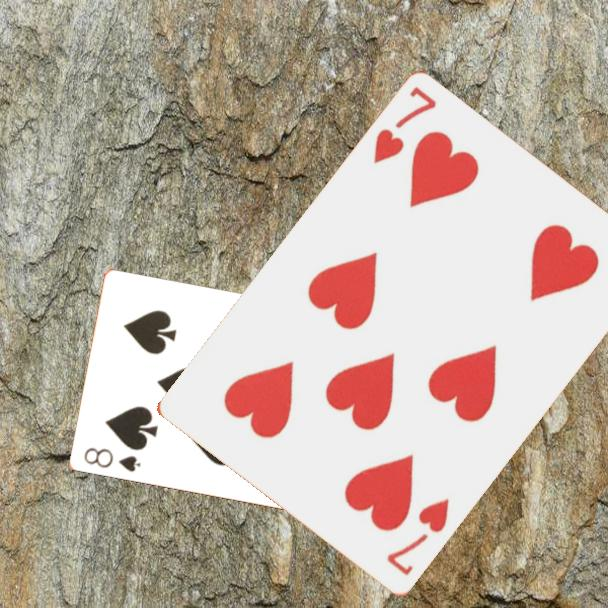h07: (369, 83, 440, 168), (383, 495, 453, 580)
s08: (80, 444, 143, 475)
